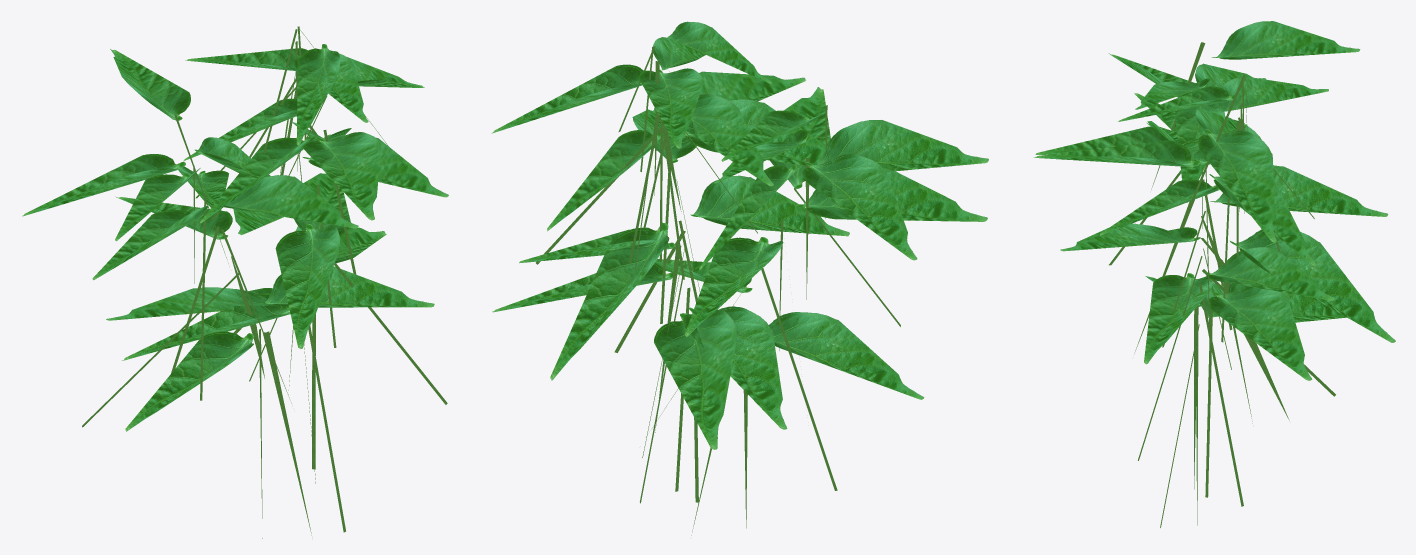
Rendered from Leafy Bush A.glb.
3 renders of one model, left to right at view 1: azimuth 30°, elevation 25°; view 2: azimuth 150°, elevation 25°; view 3: azimuth 270°, elevation 25°, orthographic. The views are drawn at different scales.
Parts seen in each view (by area): view 1: Leafy Bush A; view 2: Leafy Bush A; view 3: Leafy Bush A.
Boxes of the visible parts, left/top/right/bottom form: Leafy Bush A: left=22, top=26, right=448, bottom=538; Leafy Bush A: left=491, top=21, right=988, bottom=535; Leafy Bush A: left=1033, top=21, right=1395, bottom=527.
Bounding box in the file's own units: 0.6943 × 0.8 × 0.5669.
1 material, 1 textured.
